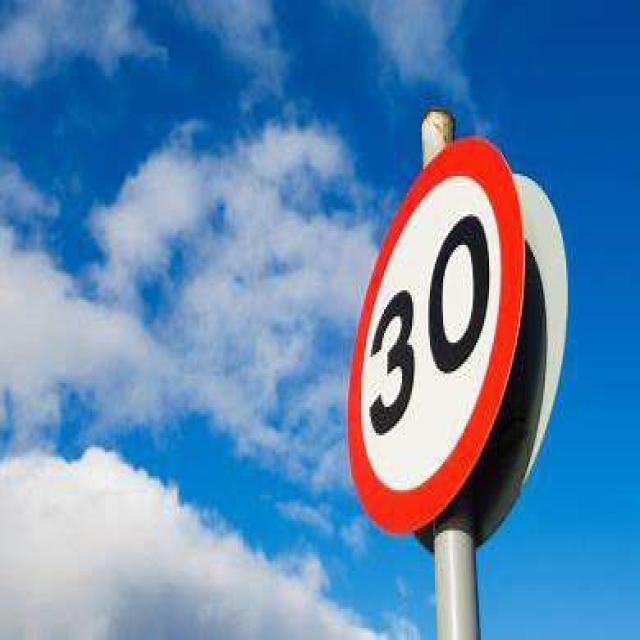speedlimit_30: (347, 135, 545, 532)
